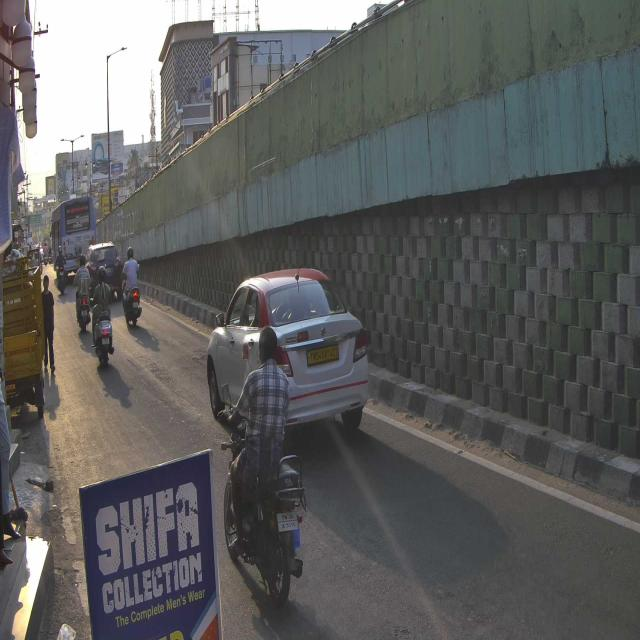single_rider: (218, 328, 307, 612)
